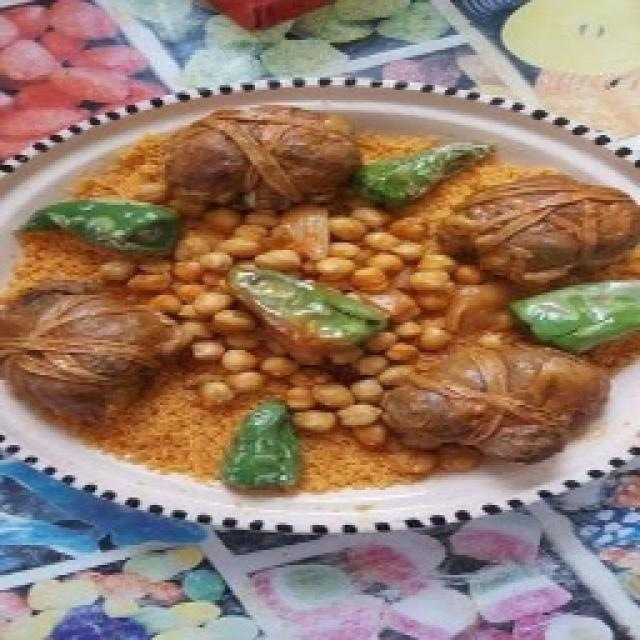Couscous: (0, 88, 640, 532)
